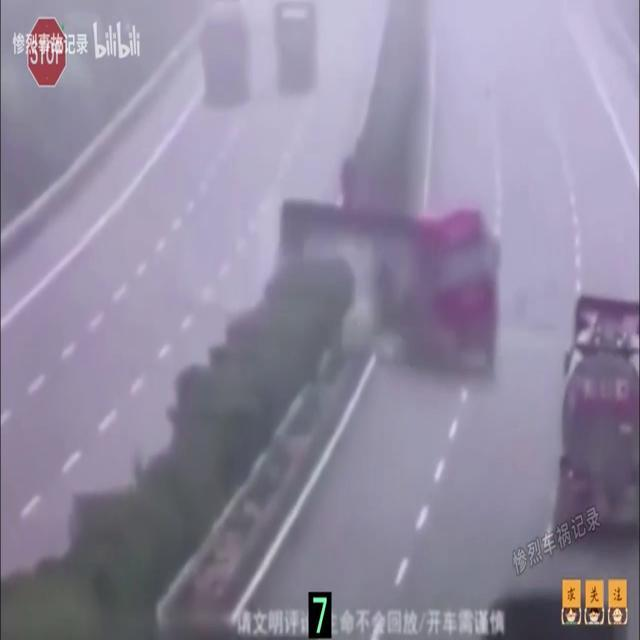single accident: (236, 142, 517, 386)
